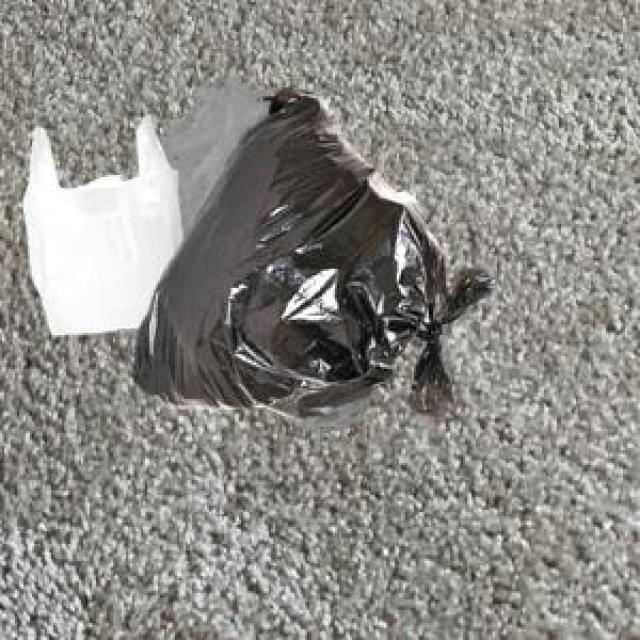miscellaneous trash: (128, 83, 491, 414)
